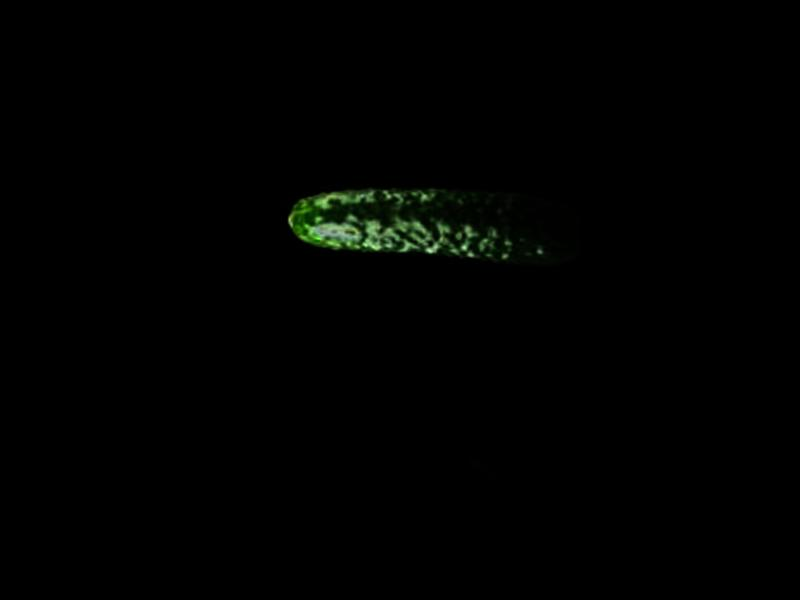Cucumber: (284, 183, 581, 268)
